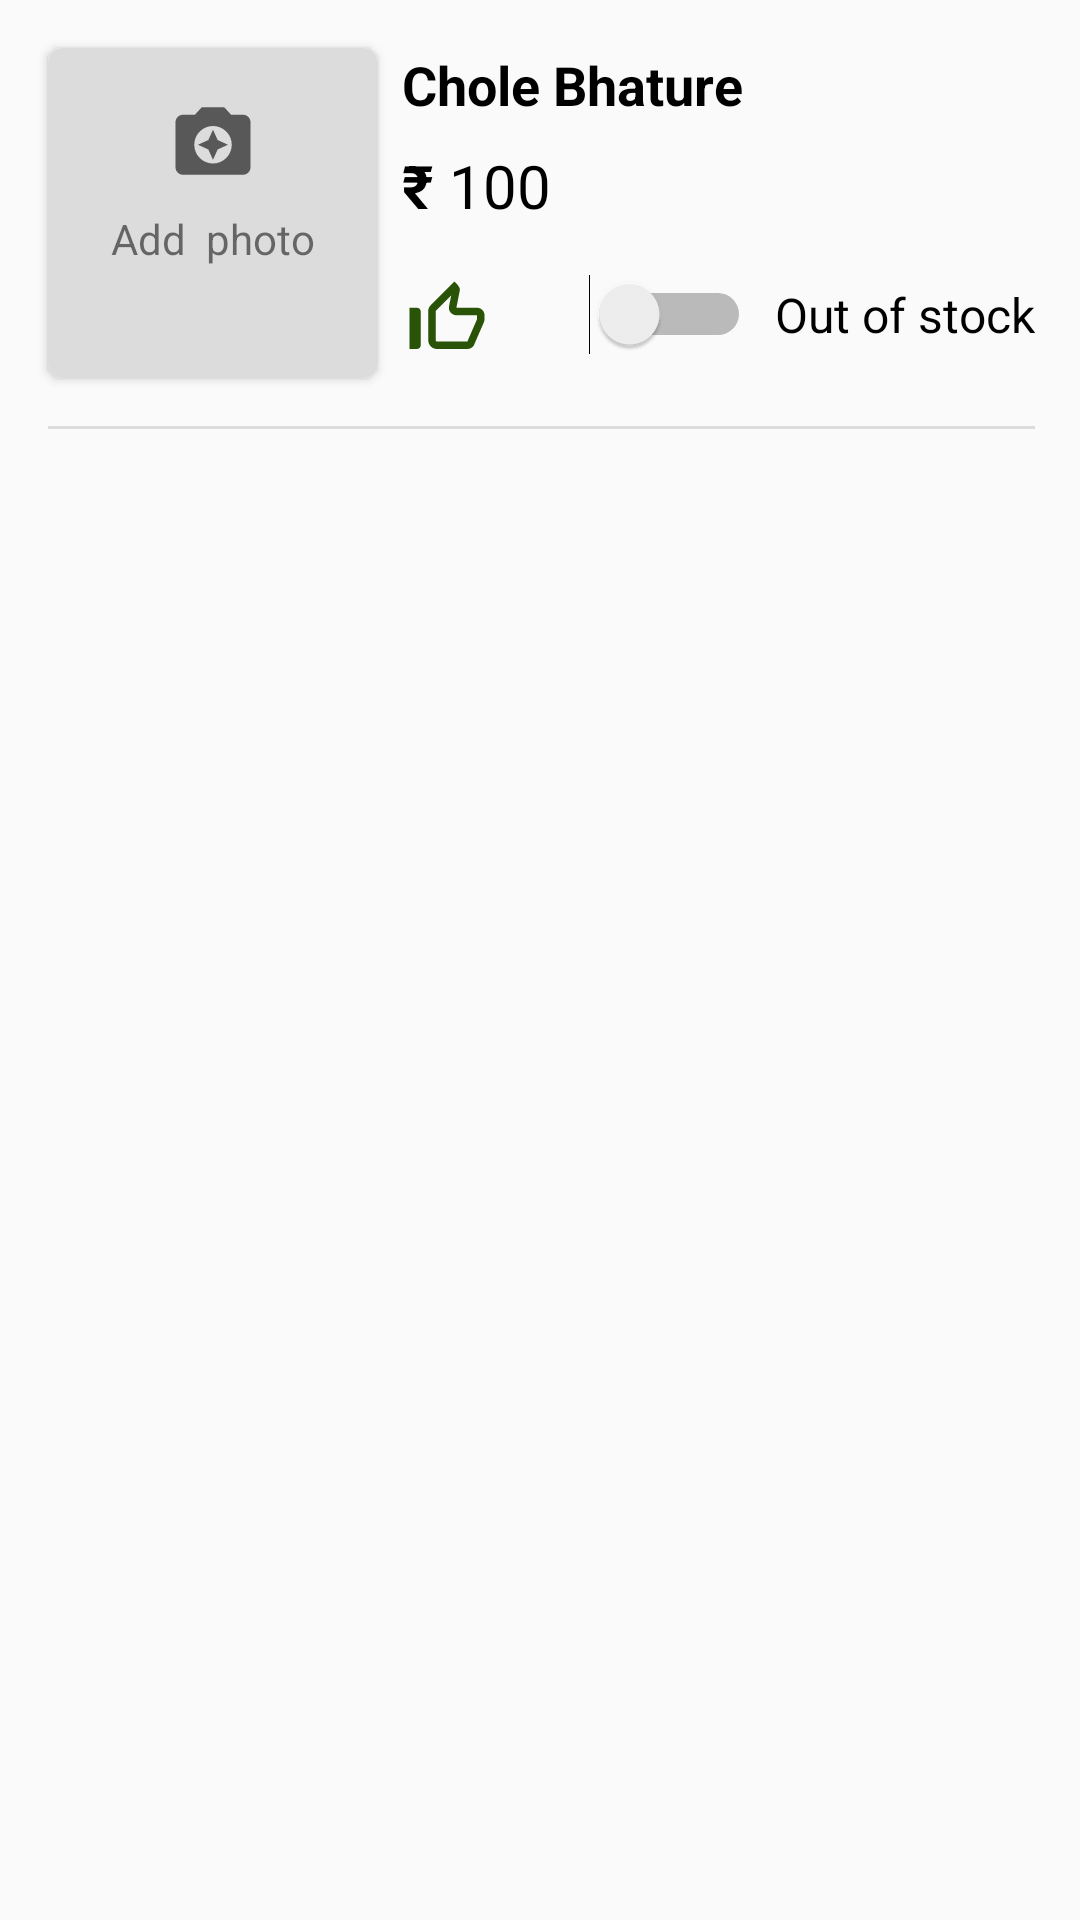

Icon bounding boxes for this 1080 x 1920 phone screenshot, format (x1, y1, x2, y2):
camera: (175, 107, 251, 175)
thumb: (409, 281, 485, 349)
